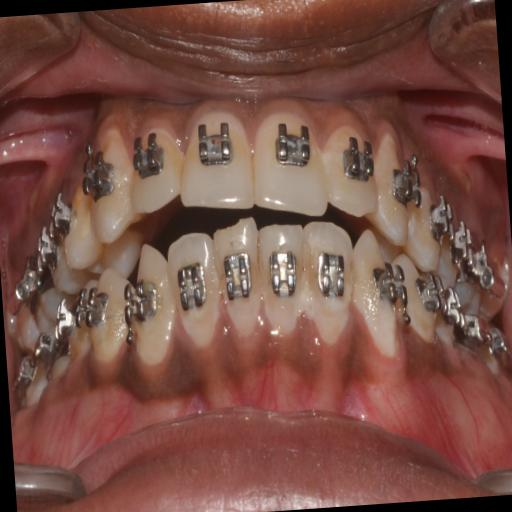correct_brace: (192, 115, 238, 176), (270, 114, 316, 174), (337, 128, 378, 188), (264, 242, 302, 303), (128, 128, 166, 187), (218, 246, 256, 304), (172, 258, 210, 314), (314, 246, 350, 305)
incorrect_brace: (302, 216, 358, 349), (164, 226, 220, 352), (124, 125, 188, 228), (324, 112, 380, 224)
